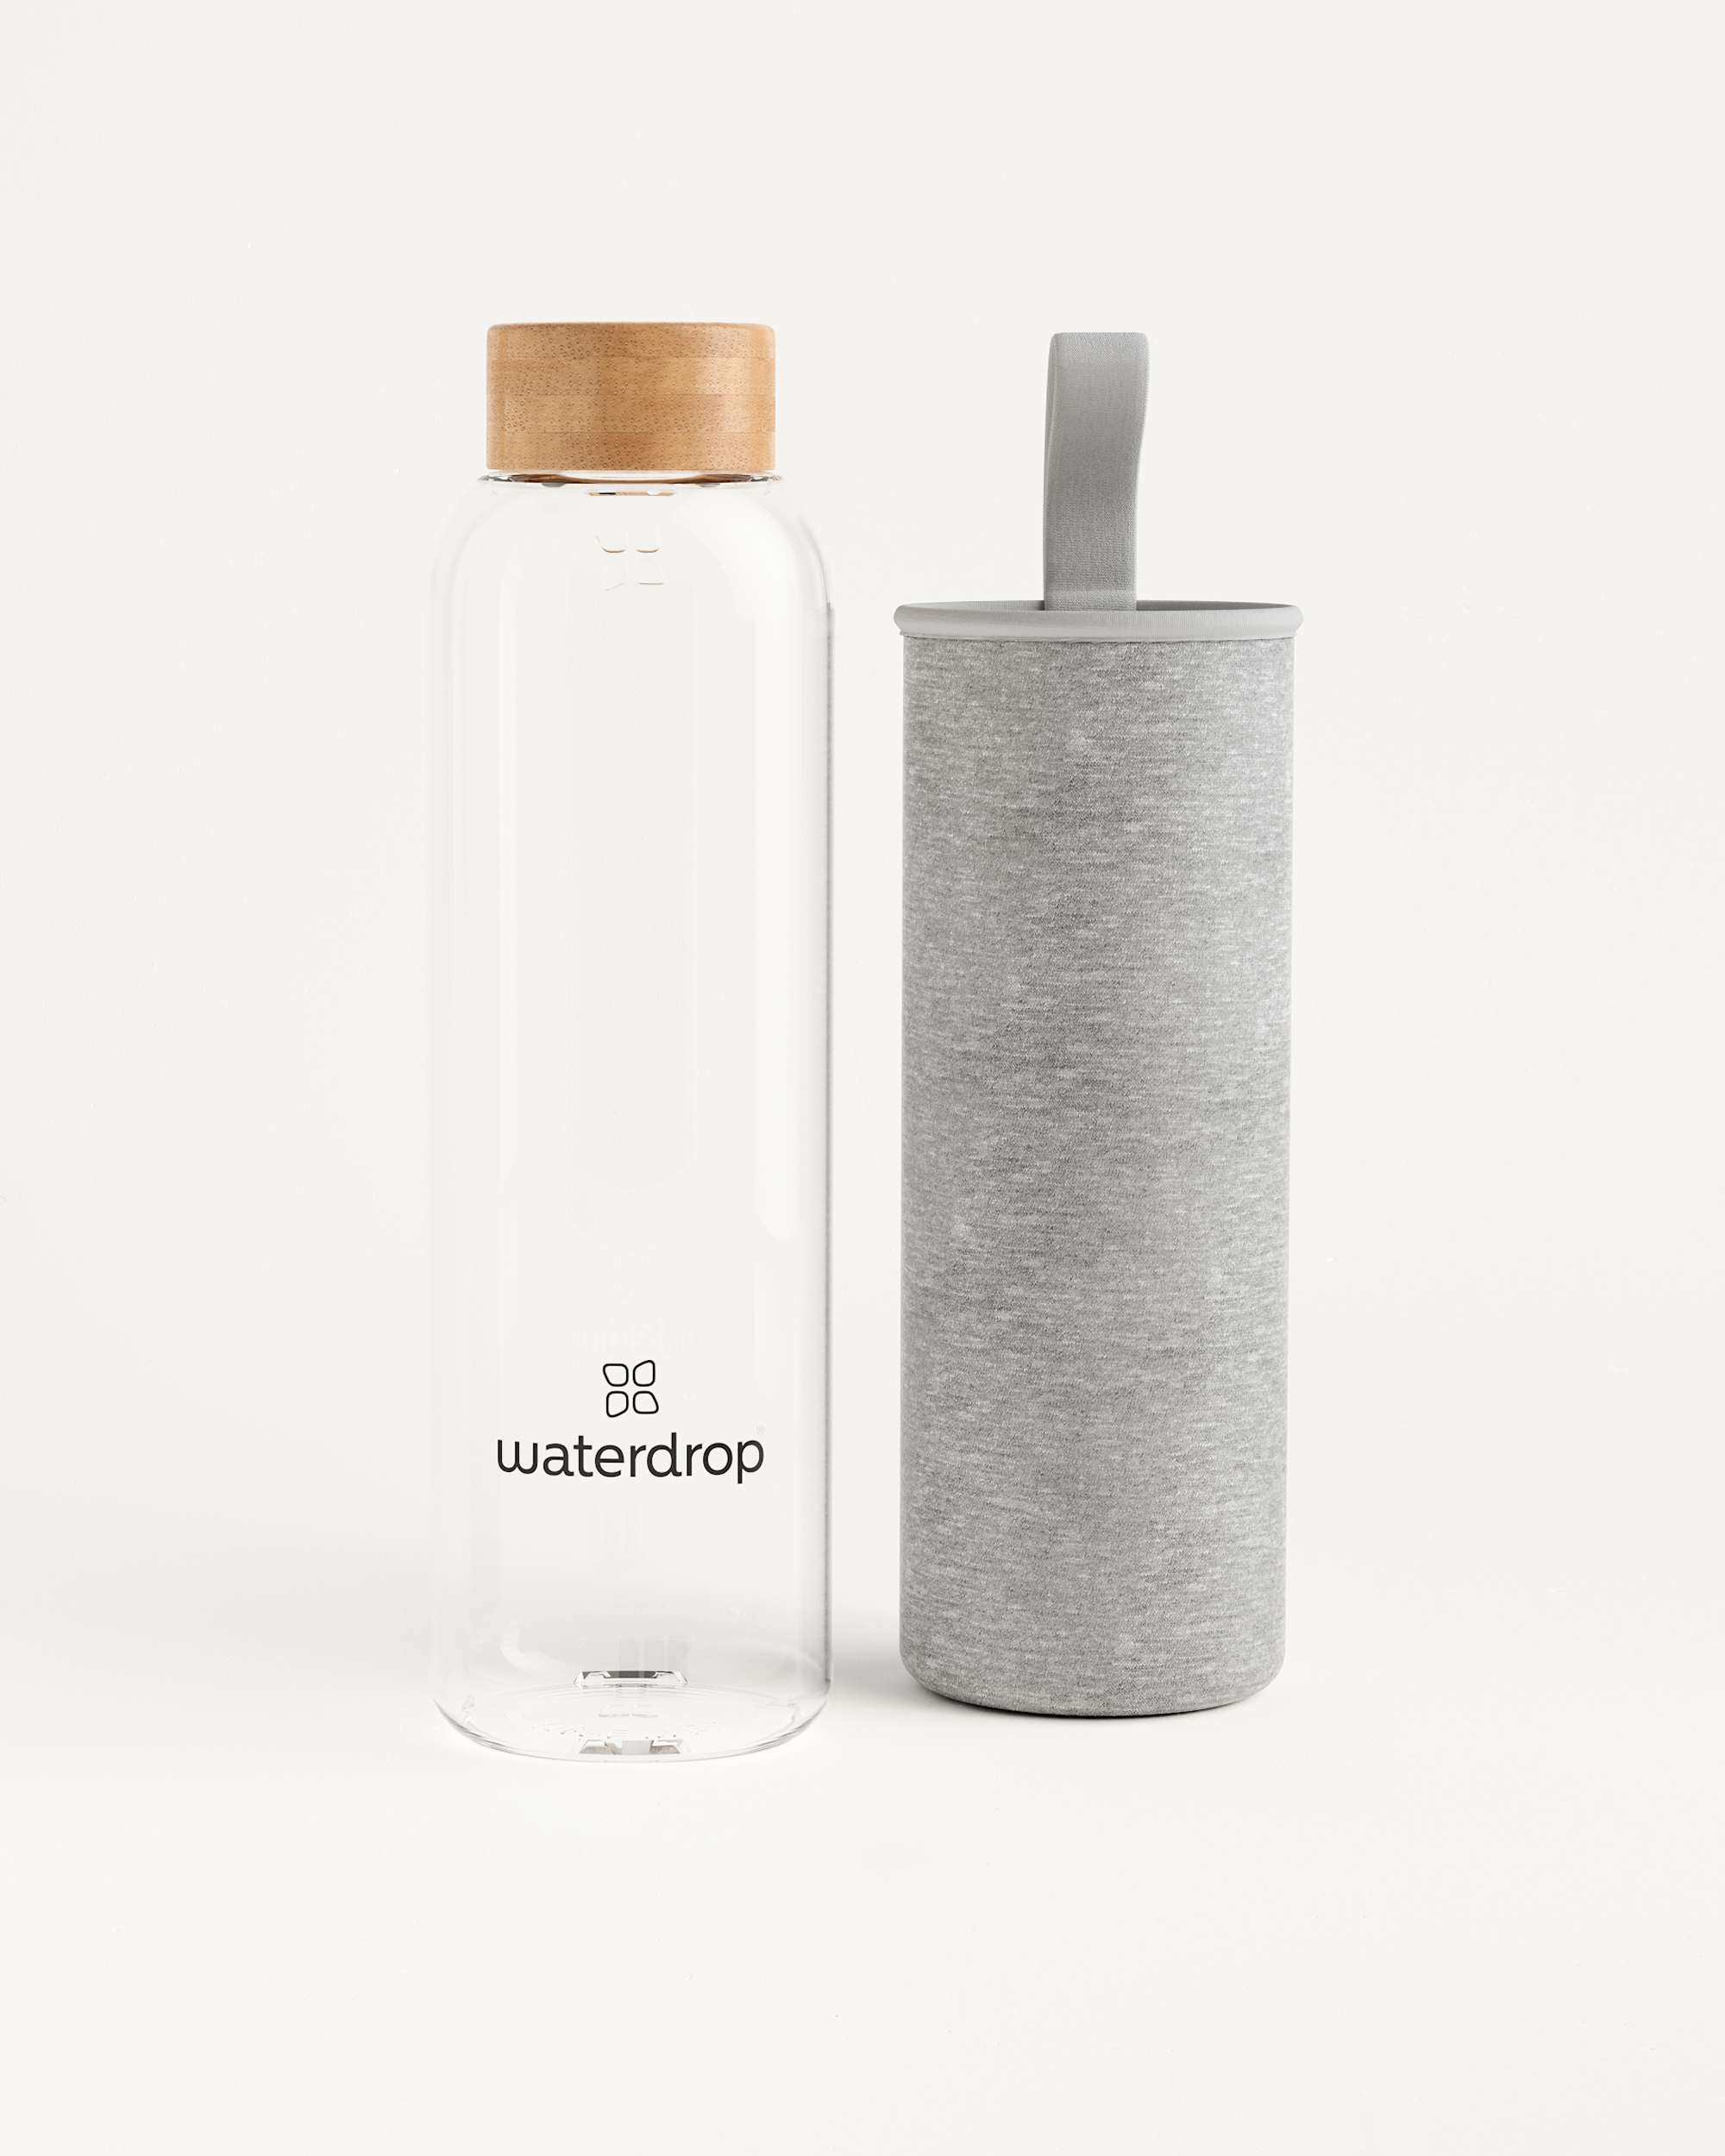glass_bottle: (378, 253, 878, 1806)
